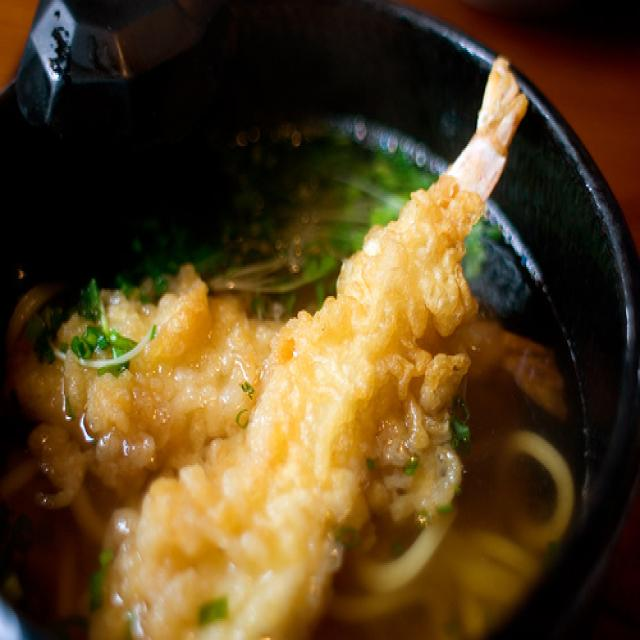面条主食: (0, 54, 593, 640)
